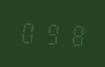eight: (63, 20, 84, 48)
nine: (41, 19, 62, 47)
zero: (18, 18, 39, 46)
